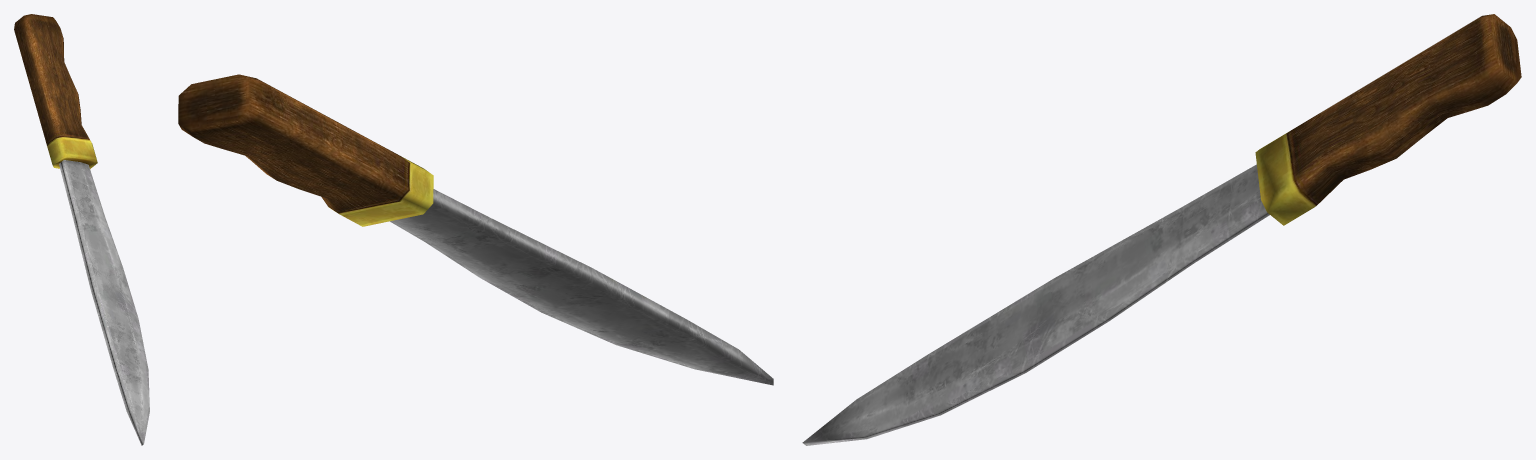
The model's file is knife-base.glb.
3 views of the same model, side by side, from view 1: azimuth 30°, elevation 25°; view 2: azimuth 150°, elevation 25°; view 3: azimuth 270°, elevation 25° (orthographic). The views are drawn at different scales.
Size of the model in its own units: 0.1632 by 0.3997 by 0.5238.
Materials: 1 (1 with a texture image).
